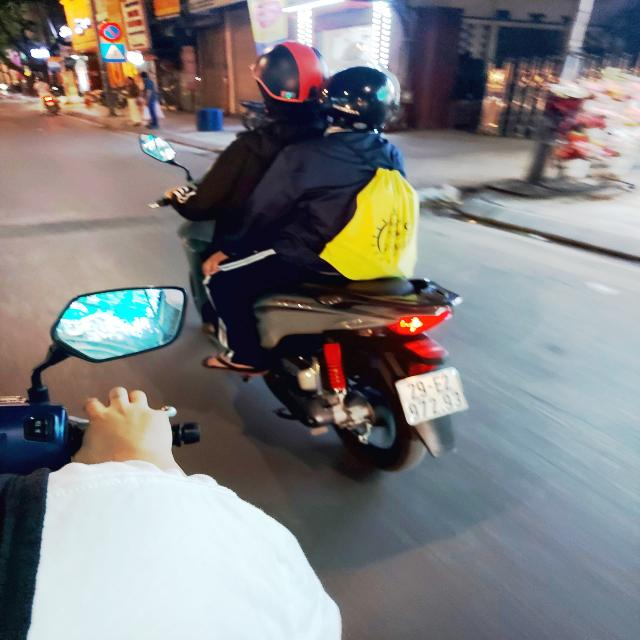license_plate: (393, 365, 471, 430)
